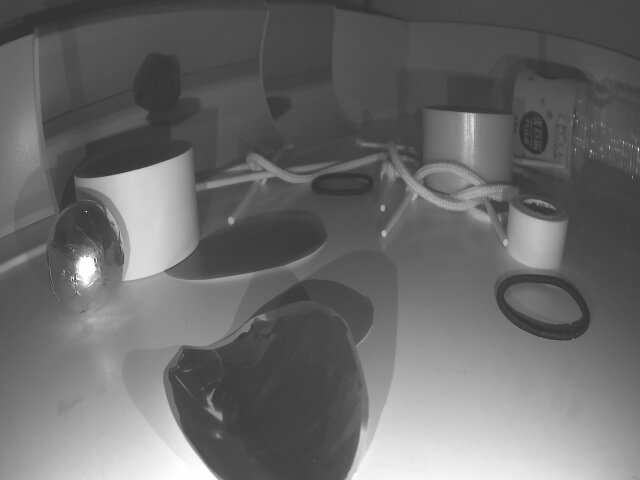Live: (43, 202, 126, 313)
